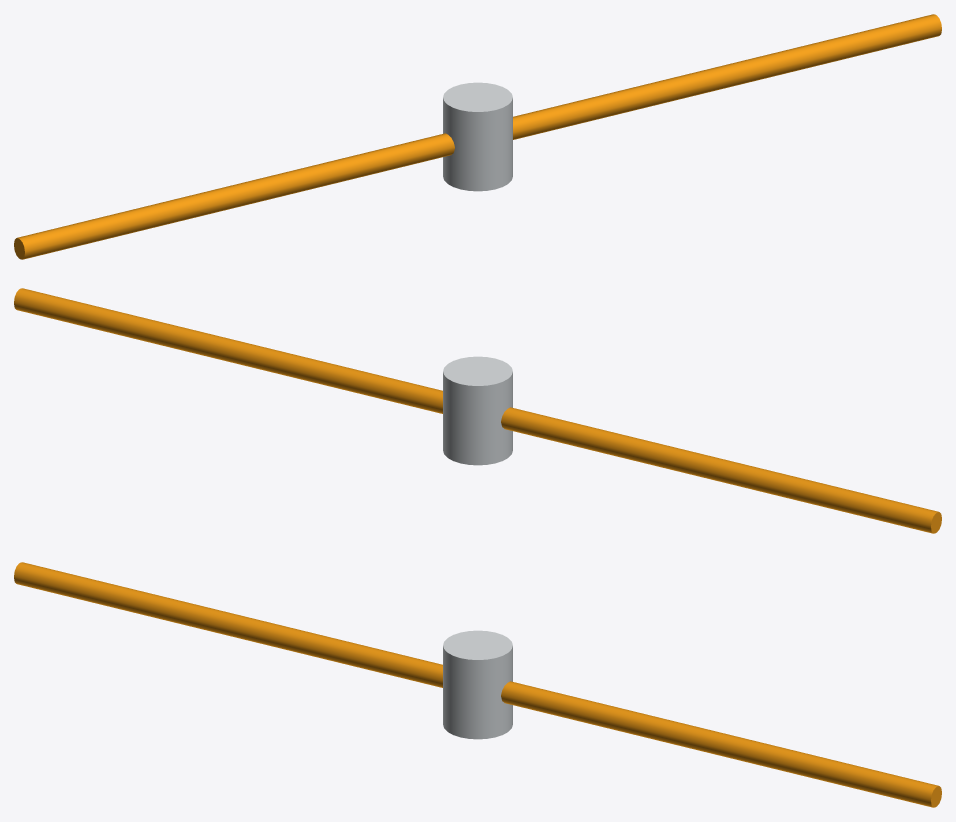
The model's file is Obstacles.002.fbx.
The picture shows the model from 3 angles, top to bottom: view 1: azimuth 30°, elevation 25°; view 2: azimuth 150°, elevation 25°; view 3: azimuth 330°, elevation 25°; orthographic projection.
Parts seen in each view (by area): view 1: Obstacles.002; view 2: Obstacles.002; view 3: Obstacles.002.
Boxes of the visible parts, x1,y1,x2,y2 form: Obstacles.002: (14,14,941,259); Obstacles.002: (14,288,941,533); Obstacles.002: (14,562,941,807).
Size of the model in its own units: 16.95 by 1.4 by 1.12.
